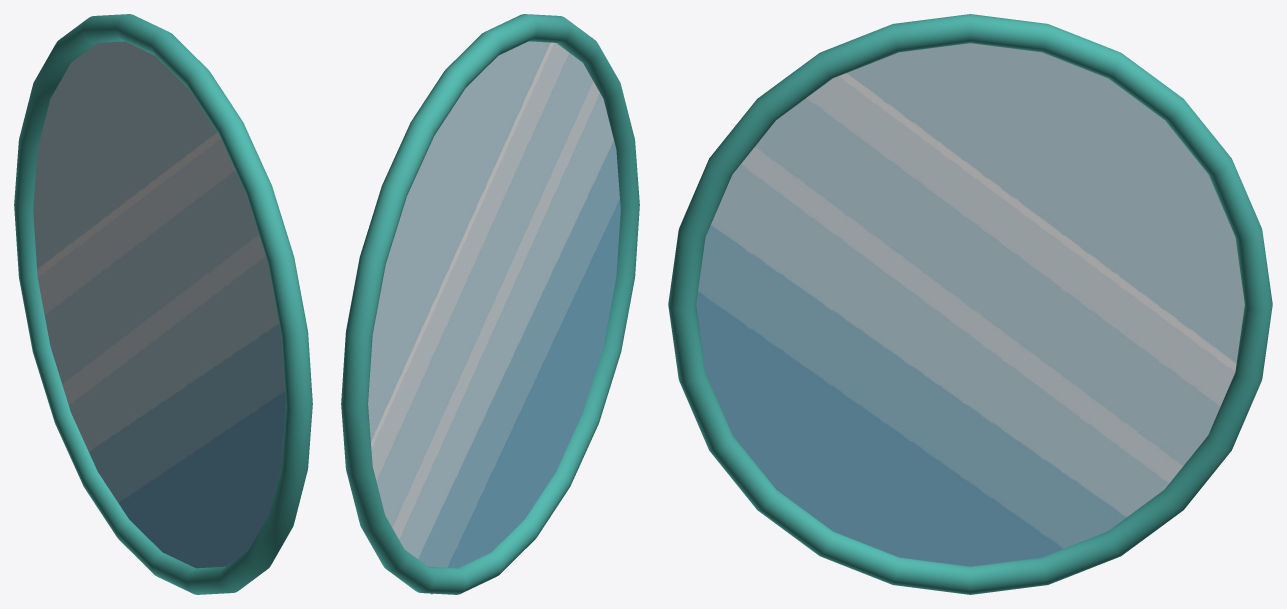
The model's file is Bathroom_Mirror_02_Collider.fbx.
3 views of the same model, side by side, from view 1: azimuth 30°, elevation 25°; view 2: azimuth 150°, elevation 25°; view 3: azimuth 270°, elevation 25° (orthographic). The views are drawn at different scales.
Parts seen in each view (by area): view 1: Bathroom_Mirror_02_Collider; view 2: Bathroom_Mirror_02_Collider; view 3: Bathroom_Mirror_02_Collider.
Boxes of the visible parts, bbox=[...] form: Bathroom_Mirror_02_Collider: bbox=[14, 14, 312, 594]; Bathroom_Mirror_02_Collider: bbox=[341, 14, 639, 594]; Bathroom_Mirror_02_Collider: bbox=[668, 14, 1272, 594].
Size of the model in its own units: 6.75 by 150 by 142.
